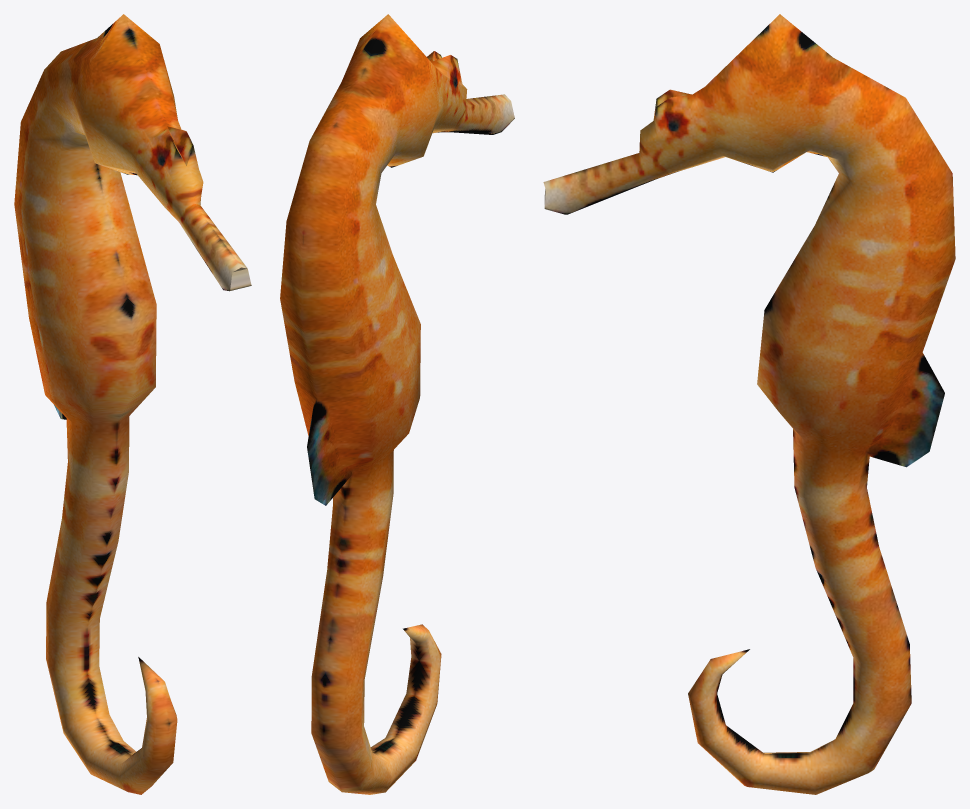
Rendered from seahorse.dae.
3 views of the same model, side by side, from view 1: azimuth 30°, elevation 25°; view 2: azimuth 150°, elevation 25°; view 3: azimuth 270°, elevation 25° (orthographic).
Parts seen in each view (by area): view 1: Cylinder02; view 2: Cylinder02; view 3: Cylinder02.
Boxes of the visible parts, x1,y1,x2,y2 form: Cylinder02: (14, 14, 251, 794); Cylinder02: (280, 14, 514, 794); Cylinder02: (543, 14, 955, 794).
Size of the model in its own units: 0.9246 by 3.18 by 6.63.
1 material, 1 textured.
